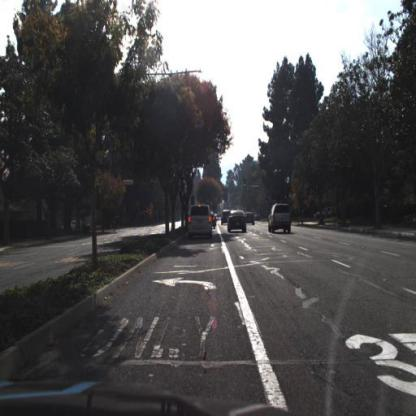car: (269, 199, 297, 236), (188, 201, 213, 237), (62, 220, 93, 239), (227, 209, 248, 237), (315, 203, 336, 221), (244, 212, 258, 228), (244, 208, 256, 226), (223, 207, 232, 227), (212, 214, 221, 230)
